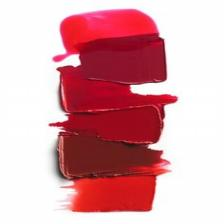red: (50, 9, 177, 212)
